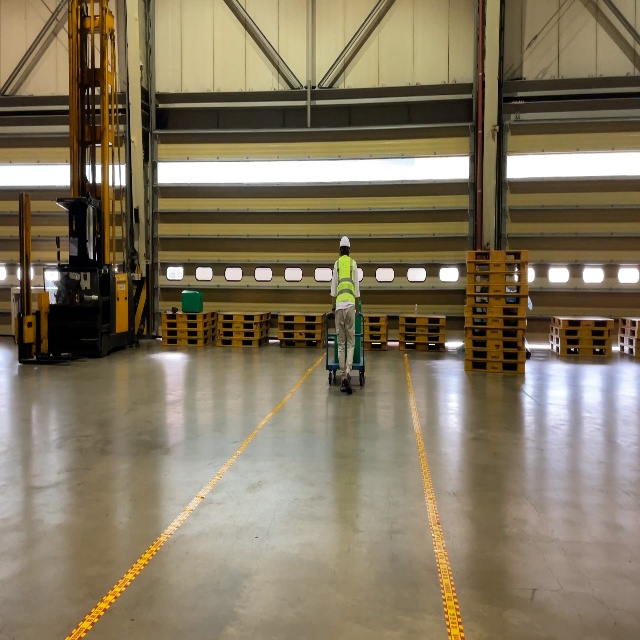Worker: (331, 236, 360, 394)
